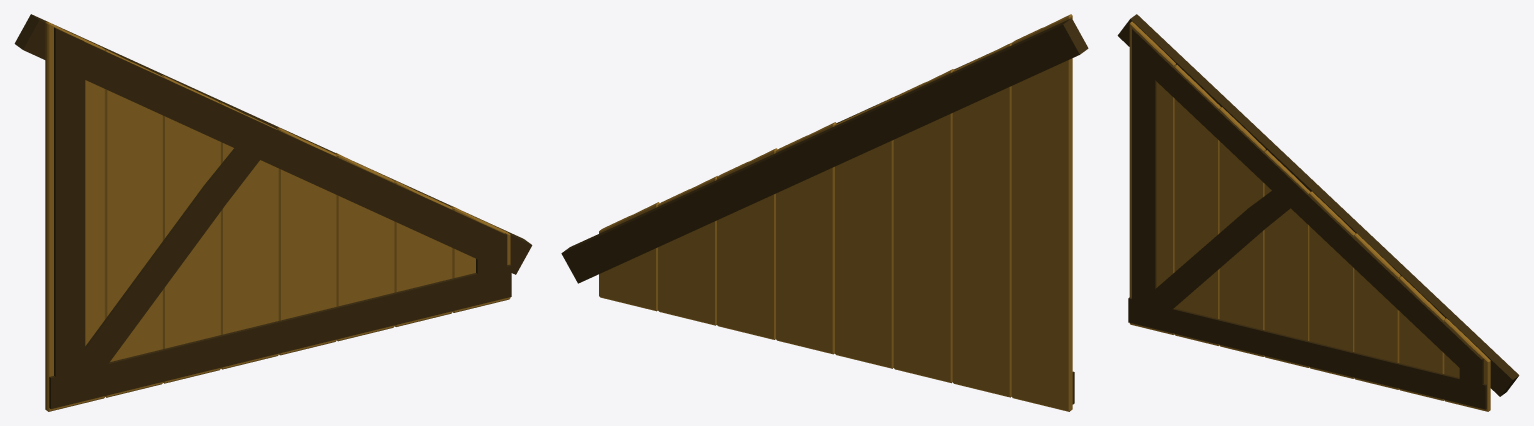
Rendered from zid_krov desno.FBX.
3 views of the same model, side by side, from view 1: azimuth 30°, elevation 25°; view 2: azimuth 150°, elevation 25°; view 3: azimuth 330°, elevation 25° (orthographic). The views are drawn at different scales.
Parts seen in each view (by area): view 1: zid_krov_tarabe, zid_krov_ukras, zid_krov_gredica; view 2: zid_krov_tarabe, zid_krov_gredica; view 3: zid_krov_tarabe, zid_krov_ukras, zid_krov_gredica.
Part boxes in pixels (left/top/right/bottom): zid_krov_tarabe: left=45, top=21, right=510, bottom=411; zid_krov_ukras: left=49, top=27, right=511, bottom=408; zid_krov_gredica: left=14, top=14, right=532, bottom=274; zid_krov_tarabe: left=599, top=14, right=1072, bottom=411; zid_krov_gredica: left=561, top=18, right=1088, bottom=283; zid_krov_tarabe: left=1129, top=21, right=1490, bottom=411; zid_krov_ukras: left=1128, top=28, right=1486, bottom=409; zid_krov_gredica: left=1117, top=14, right=1519, bottom=396.
Bounding box in the file's own units: 172 × 126 × 9.1.
